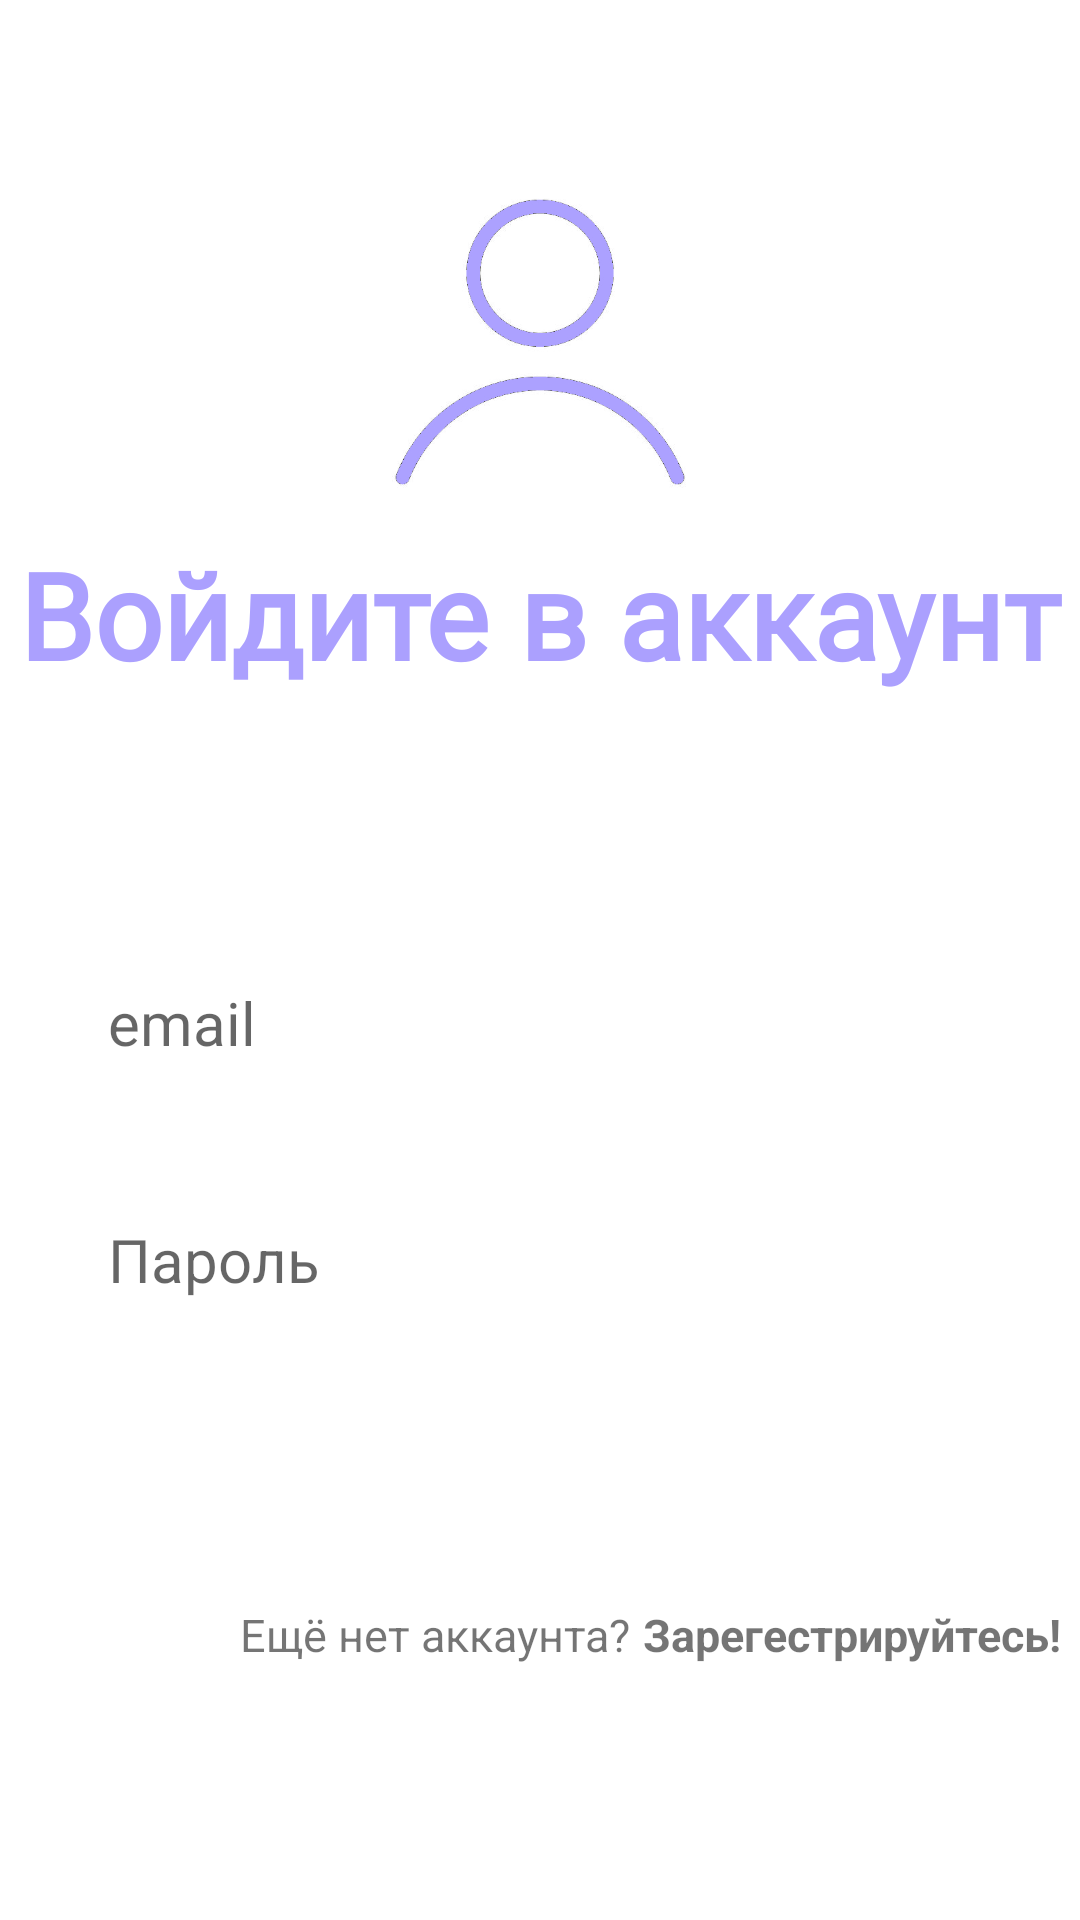

Where to tap for icons on this 1080×1920 app screen, as [x,y]:
signin: [540,342]
